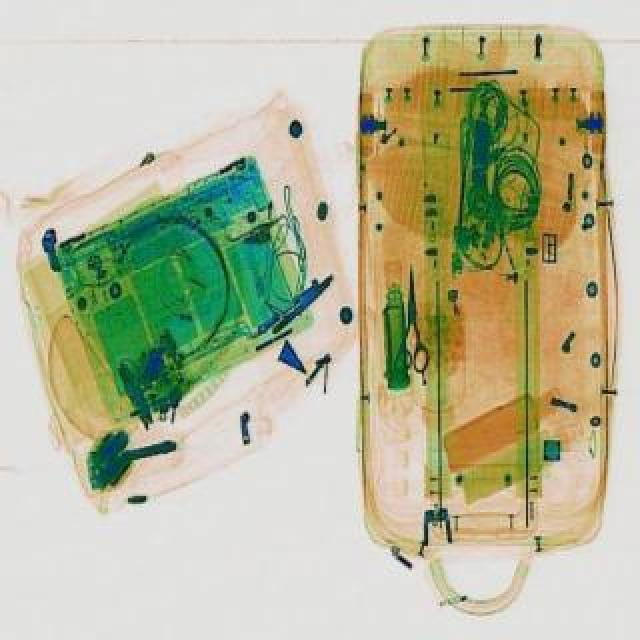pliers: (390, 264, 430, 370)
